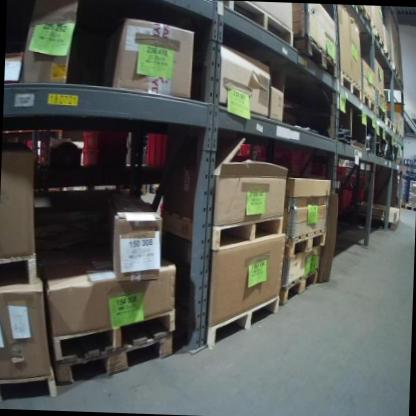pallet: (51, 301, 178, 366), (55, 327, 175, 393), (162, 211, 284, 256), (202, 292, 280, 352), (227, 1, 295, 51), (292, 32, 340, 84), (0, 363, 55, 406), (279, 265, 319, 312), (0, 248, 39, 296), (283, 226, 329, 260), (338, 65, 365, 106), (366, 214, 401, 233), (350, 6, 374, 31), (362, 88, 378, 118), (371, 28, 387, 58), (384, 46, 395, 71), (386, 113, 396, 135), (377, 106, 387, 125), (393, 64, 401, 83), (404, 204, 416, 211)
small_load_carrier: (145, 135, 186, 175), (78, 148, 130, 174), (80, 131, 131, 150), (276, 146, 305, 162), (238, 142, 257, 159)
